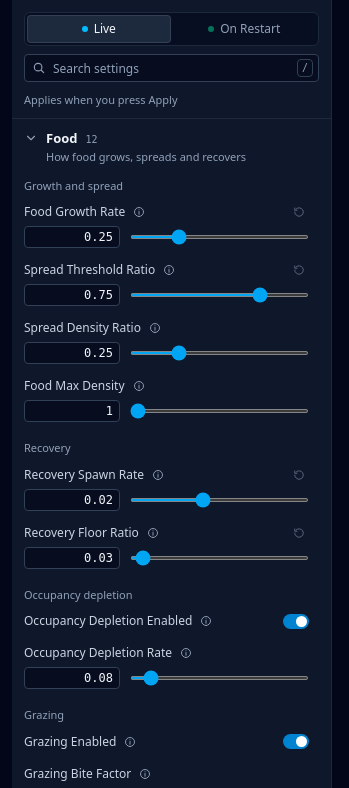
Scenario: ConfigPanel › search and filters › matches config paths and help text, and shows the help that matched
In the search field with test id "config-search": (172, 68) [24, 54, 319, 82], type "vm.step_ramp"
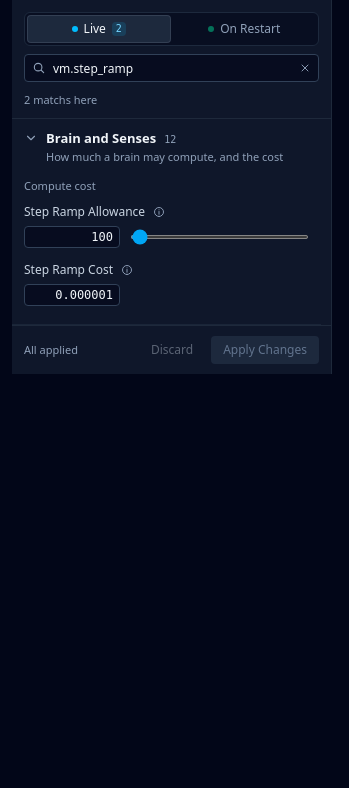
Check: the text "Step Ramp Allowance" is shown, box [24, 204, 145, 220]
Replace the text in the search field with test id "config-search" with "litter": (172, 68) [24, 54, 319, 82]
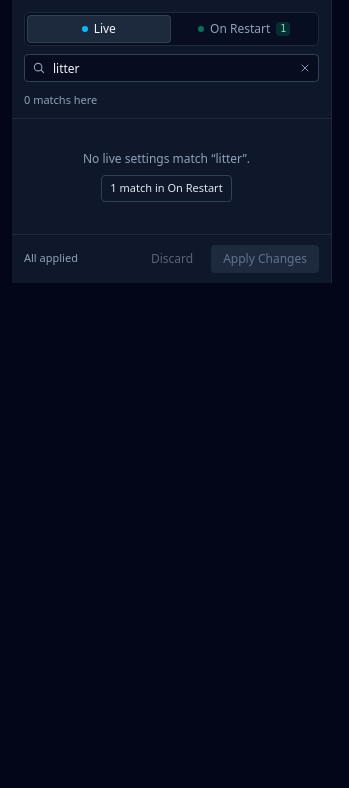
Check: the tab "On Restart 1" is shown, box [172, 15, 316, 43]
